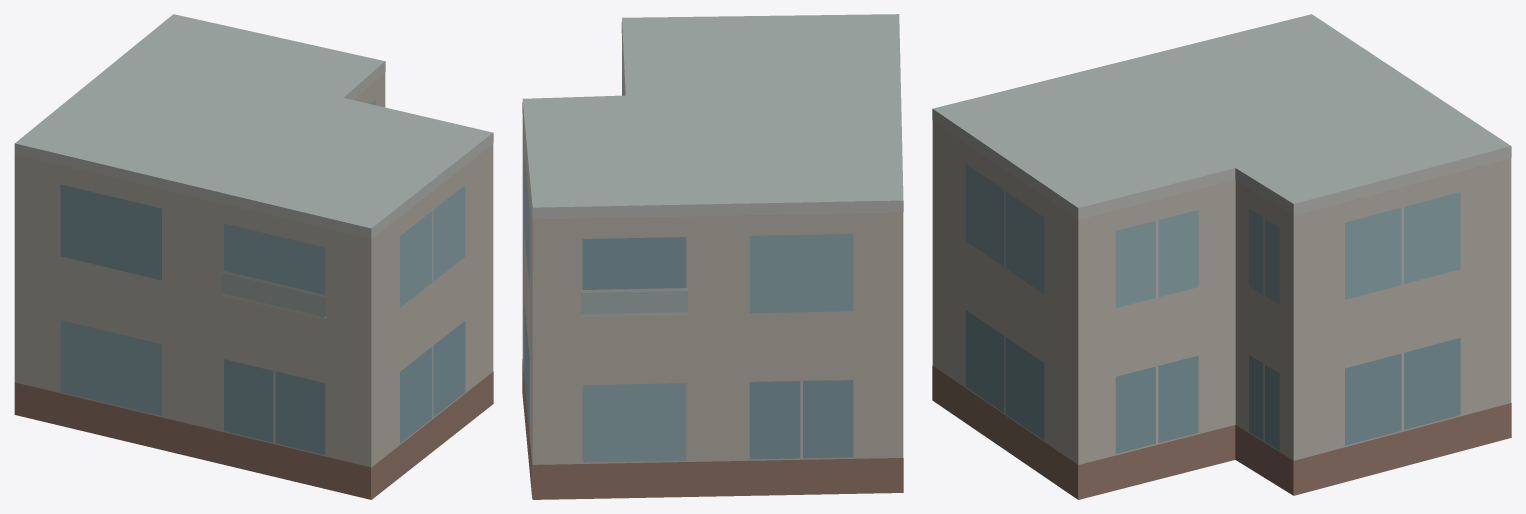
File: survey-upis-32763073.glb
The picture shows the model from 3 angles, left to right: view 1: azimuth 30°, elevation 25°; view 2: azimuth 150°, elevation 25°; view 3: azimuth 270°, elevation 25°; orthographic projection. The views are drawn at different scales.
Visible parts, largest first — view 1: survey-upis-32763073.tmp; view 2: survey-upis-32763073.tmp; view 3: survey-upis-32763073.tmp.
Boxes of the visible parts, bbox=[...] form: survey-upis-32763073.tmp: bbox=[14, 14, 493, 499]; survey-upis-32763073.tmp: bbox=[522, 14, 903, 499]; survey-upis-32763073.tmp: bbox=[932, 14, 1511, 499].
Bounding box in the file's own units: 8.71 × 6.1 × 10.98.
